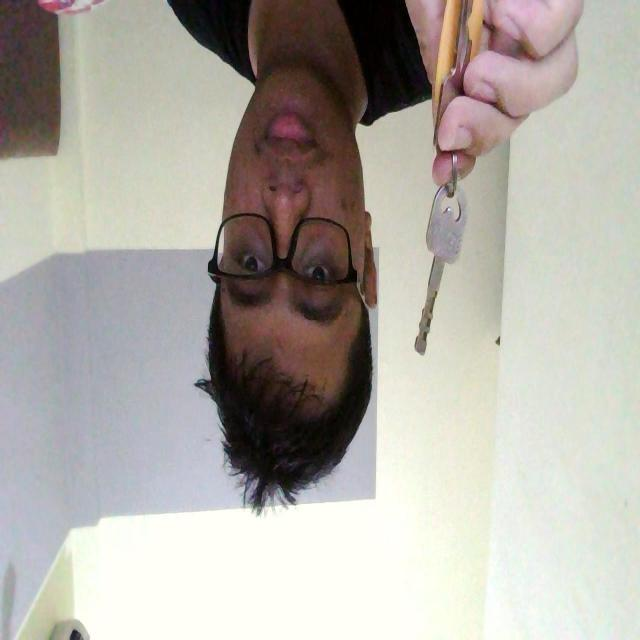kunci_pagar: (409, 178, 472, 368)
